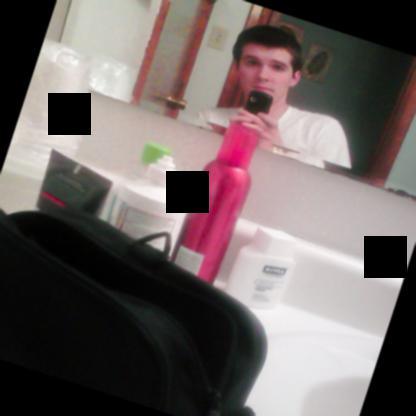handbag: (0, 206, 269, 416)
